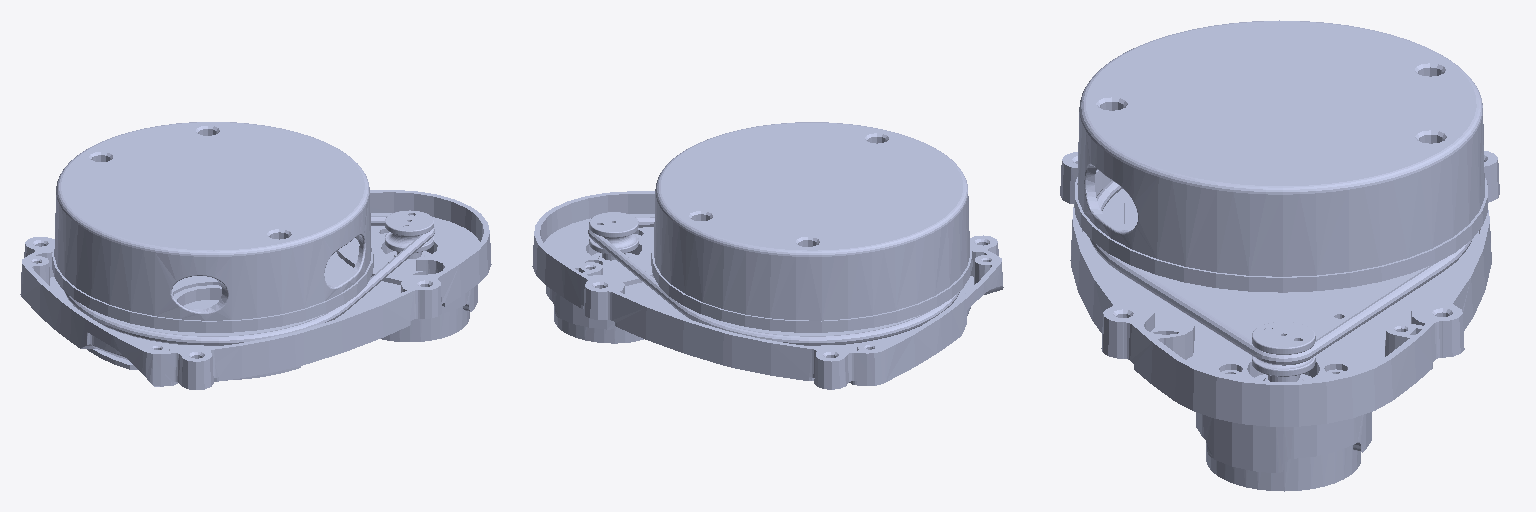
The robot description file, URDF, robot "urdf2":
<?xml version="1.0" encoding="utf-8"?>
<!-- This URDF was automatically created by SolidWorks to URDF Exporter! Originally created by [author] ([email redacted]) 
     Commit Version: 1.6.0-4-g7f85cfe  Build Version: 1.6.7995.38578
     For more information, please see http://wiki.ros.org/sw_urdf_exporter -->
<robot
  name="urdf2">
  <link
    name="base_link">
    <inertial>
      <origin
        xyz="0.044092 -0.0071279 0.046916"
        rpy="0 0 0" />
      <mass
        value="7.2364" />
      <inertia
        ixx="0.023421"
        ixy="-0.00022862"
        ixz="0.00044997"
        iyy="0.051438"
        iyz="-6.949E-07"
        izz="0.067441" />
    </inertial>
    <visual>
      <origin
        xyz="0 0 0"
        rpy="0 0 0" />
      <geometry>
        <mesh
          filename="package://urdf2/meshes/base_link.STL" />
      </geometry>
      <material
        name="">
        <color
          rgba="0.75294 0.75294 0.75294 1" />
      </material>
    </visual>
    <collision>
      <origin
        xyz="0 0 0"
        rpy="0 0 0" />
      <geometry>
        <mesh
          filename="package://urdf2/meshes/base_link.STL" />
      </geometry>
    </collision>
  </link>
  <link
    name="Lidar_link">
    <inertial>
      <origin
        xyz="0.014838 0.00044768 -0.021154"
        rpy="0 0 0" />
      <mass
        value="0.031241" />
      <inertia
        ixx="8.8803E-06"
        ixy="-1.7766E-07"
        ixz="1.1303E-07"
        iyy="1.4491E-05"
        iyz="3.4608E-08"
        izz="2.2529E-05" />
    </inertial>
    <visual>
      <origin
        xyz="0 0 0"
        rpy="0 0 0" />
      <geometry>
        <mesh
          filename="package://urdf2/meshes/Lidar_link.STL" />
      </geometry>
      <material
        name="">
        <color
          rgba="0.79216 0.81961 0.93333 1" />
      </material>
    </visual>
    <collision>
      <origin
        xyz="0 0 0"
        rpy="0 0 0" />
      <geometry>
        <mesh
          filename="package://urdf2/meshes/Lidar_link.STL" />
      </geometry>
    </collision>
  </link>
  <joint
    name="Lidar_joint"
    type="fixed">
    <origin
      xyz="0.15573 0.0011914 0.1461"
      rpy="0 0 0" />
    <parent
      link="base_link" />
    <child
      link="Lidar_link" />
    <axis
      xyz="0 0 0" />
  </joint>
  <link
    name="Imu_link">
    <inertial>
      <origin
        xyz="-0.00012898 -0.0001915 -0.0038407"
        rpy="0 0 0" />
      <mass
        value="0.0009999" />
      <inertia
        ixx="2.5045E-08"
        ixy="1.0397E-10"
        ixz="-2.6856E-14"
        iyy="1.2451E-08"
        iyz="-1.1857E-14"
        izz="3.0638E-08" />
    </inertial>
    <visual>
      <origin
        xyz="0 0 0"
        rpy="0 0 0" />
      <geometry>
        <mesh
          filename="package://urdf2/meshes/Imu_link.STL" />
      </geometry>
      <material
        name="">
        <color
          rgba="0.79216 0.81961 0.93333 1" />
      </material>
    </visual>
    <collision>
      <origin
        xyz="0 0 0"
        rpy="0 0 0" />
      <geometry>
        <mesh
          filename="package://urdf2/meshes/Imu_link.STL" />
      </geometry>
    </collision>
  </link>
  <joint
    name="Imu_joint"
    type="fixed">
    <origin
      xyz="0.12649 -0.10046 0.03302"
      rpy="0 0 0" />
    <parent
      link="base_link" />
    <child
      link="Imu_link" />
    <axis
      xyz="0 0 0" />
  </joint>
  <link
    name="Right_wheel_link">
    <inertial>
      <origin
        xyz="0.00024359 -0.0295 8.0116E-11"
        rpy="0 0 0" />
      <mass
        value="0.98171" />
      <inertia
        ixx="0.001653"
        ixy="-1.0121E-05"
        ixz="1.9499E-09"
        iyy="0.0028786"
        iyz="1.7266E-11"
        izz="0.0016529" />
    </inertial>
    <visual>
      <origin
        xyz="0 0 0"
        rpy="0 0 0" />
      <geometry>
        <mesh
          filename="package://urdf2/meshes/Right_wheel_link.STL" />
      </geometry>
      <material
        name="">
        <color
          rgba="0.2 0.2 0.2 1" />
      </material>
    </visual>
    <collision>
      <origin
        xyz="0 0 0"
        rpy="0 0 0" />
      <geometry>
        <mesh
          filename="package://urdf2/meshes/Right_wheel_link.STL" />
      </geometry>
    </collision>
  </link>
  <joint
    name="right_wheel"
    type="continuous">
    <origin
      xyz="0.0016366 -0.17496 0.015"
      rpy="0 0 0" />
    <parent
      link="base_link" />
    <child
      link="Right_wheel_link" />
    <axis
      xyz="-0.0082569 0.99997 0" />
  </joint>
  <link
    name="Left_wheel_link">
    <inertial>
      <origin
        xyz="-0.00024359 0.0295 8.0116E-11"
        rpy="0 0 0" />
      <mass
        value="0.98171" />
      <inertia
        ixx="0.001653"
        ixy="-1.0121E-05"
        ixz="-2.0029E-09"
        iyy="0.0028786"
        iyz="-1.7704E-11"
        izz="0.0016529" />
    </inertial>
    <visual>
      <origin
        xyz="0 0 0"
        rpy="0 0 0" />
      <geometry>
        <mesh
          filename="package://urdf2/meshes/Left_wheel_link.STL" />
      </geometry>
      <material
        name="">
        <color
          rgba="0.2 0.2 0.2 1" />
      </material>
    </visual>
    <collision>
      <origin
        xyz="0 0 0"
        rpy="0 0 0" />
      <geometry>
        <mesh
          filename="package://urdf2/meshes/Left_wheel_link.STL" />
      </geometry>
    </collision>
  </link>
  <joint
    name="left_wheel"
    type="continuous">
    <origin
      xyz="-0.0012534 0.17503 0.015"
      rpy="0 0 0" />
    <parent
      link="base_link" />
    <child
      link="Left_wheel_link" />
    <axis
      xyz="0.0082569 -0.99997 0" />
  </joint>
</robot>

--- Render facts (derived) ---
Views: 3 orthographic renders of the robot side by side, from view 1: azimuth 30°, elevation 25°; view 2: azimuth 150°, elevation 25°; view 3: azimuth 270°, elevation 25°.
Model urdf2 with 5 links and 4 joints (2 continuous, 2 fixed), rooted at base_link, posed all joints at 0.
Visible links, largest first — view 1: Lidar_link; view 2: Lidar_link; view 3: Lidar_link.
Boxes of the visible links, x1,y1,x2,y2 form: Lidar_link: [20, 122, 491, 389]; Lidar_link: [532, 122, 1003, 389]; Lidar_link: [1060, 20, 1499, 491].
Size in the robot's own frame: 0.095 by 0.0689 by 0.0405 metres.
1 mesh visuals loaded from 5 distinct referenced files (1 binary STL); not drawn: 4 (reference not matched to a file when rendering).